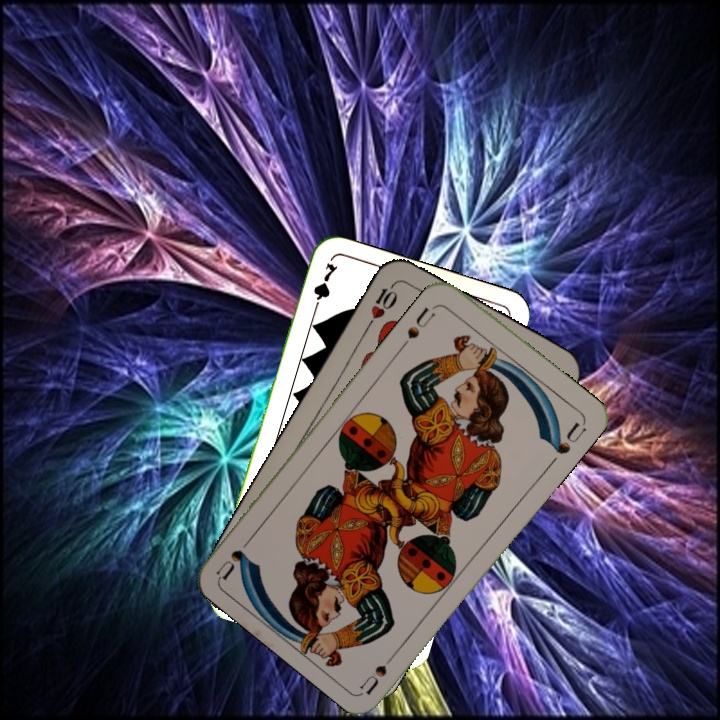G7: (308, 259, 340, 316)
H10: (362, 278, 401, 331)
SU: (357, 644, 403, 696), (403, 300, 441, 342)
